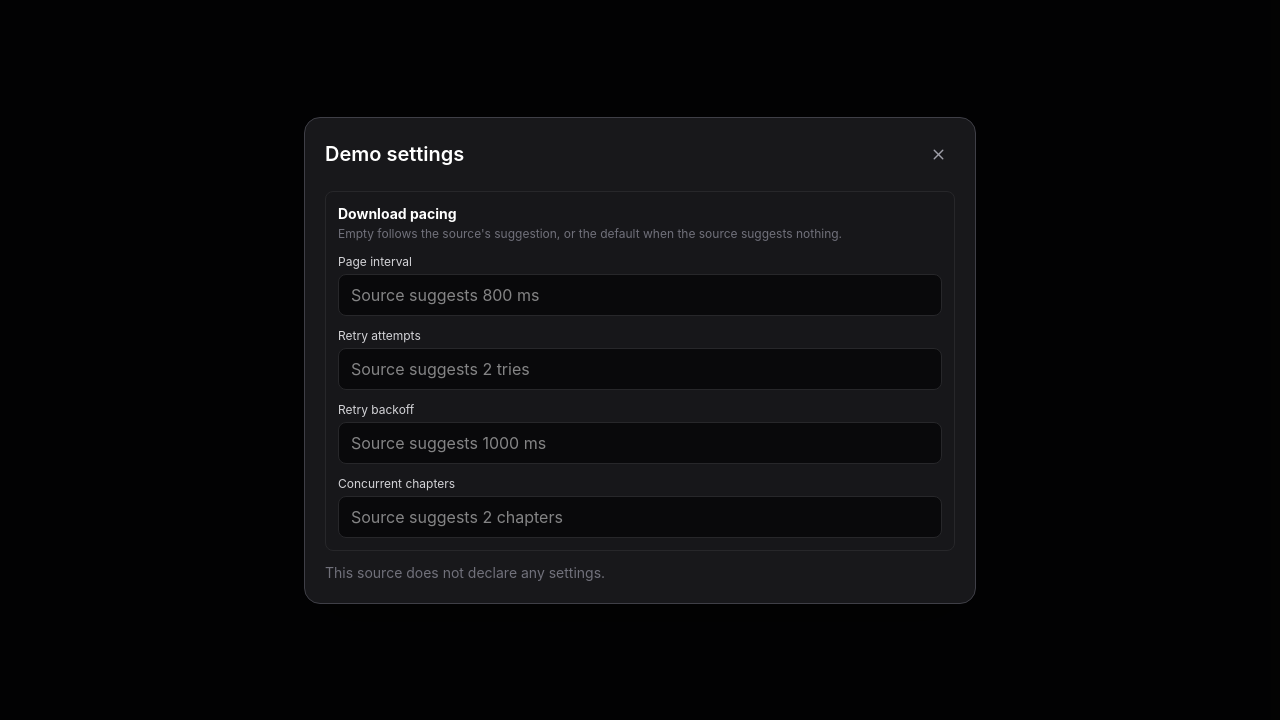
SourceSettingsDialog › saves a pacing override, warns when faster than the source suggests, and can undo it
Type "120" into the number field labelled "Page interval".
click(640, 294); type("120")  # box left=338, top=274, right=942, bottom=316
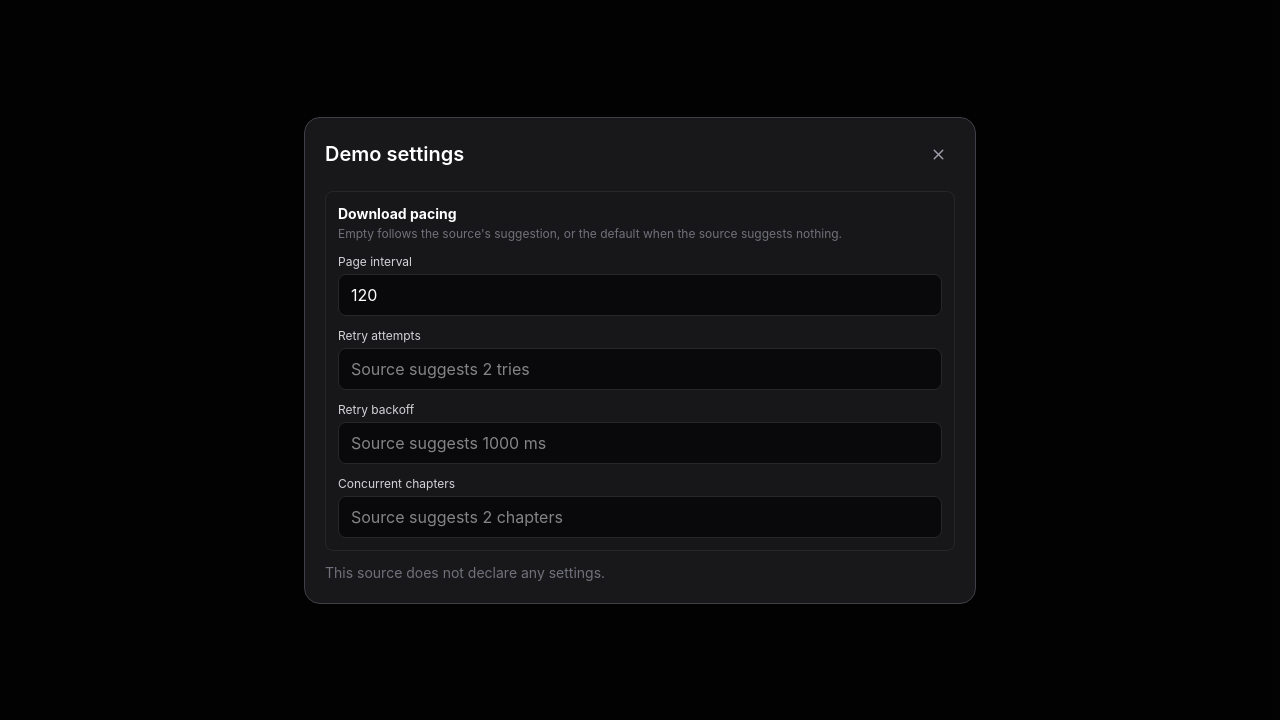
Leave the number field labelled "Page interval", box left=338, top=274, right=942, bottom=316
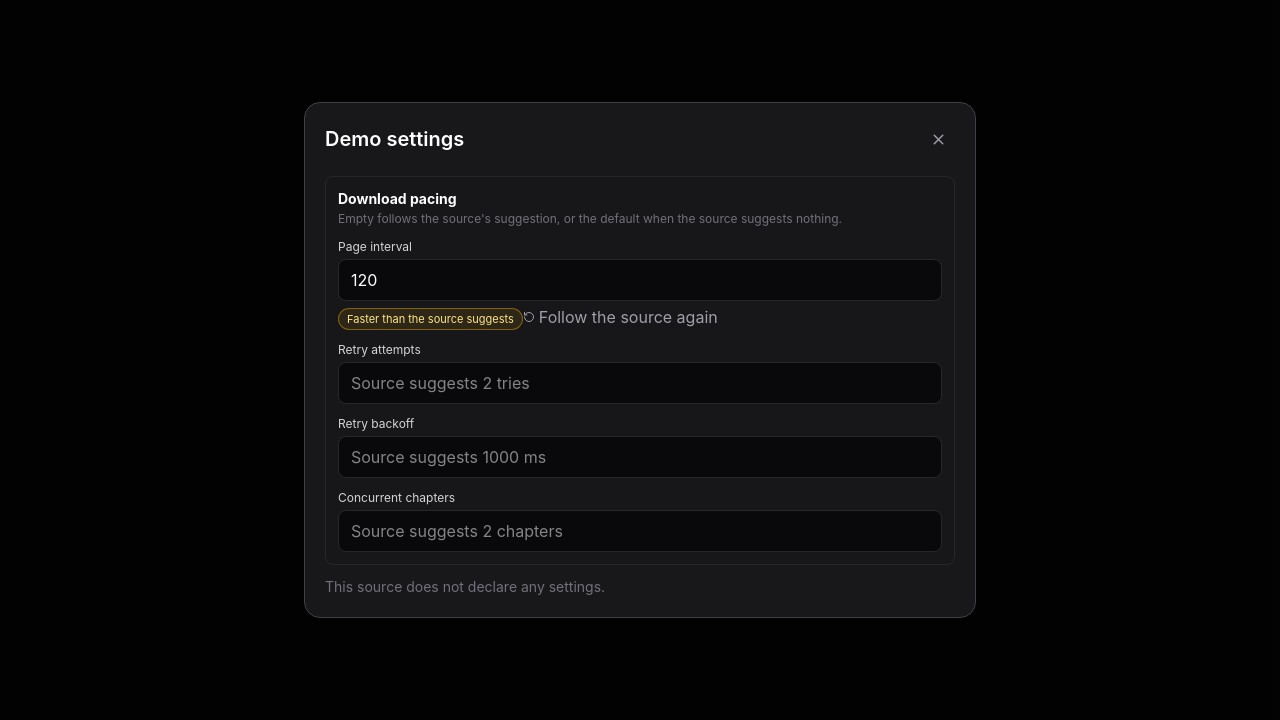
expect the text "Faster than the source suggests" is shown: met, box left=338, top=308, right=523, bottom=330
Following the source again stores null and clears the warning.
Click the button "Follow the source again".
click(620, 317)  # box left=523, top=305, right=718, bottom=329
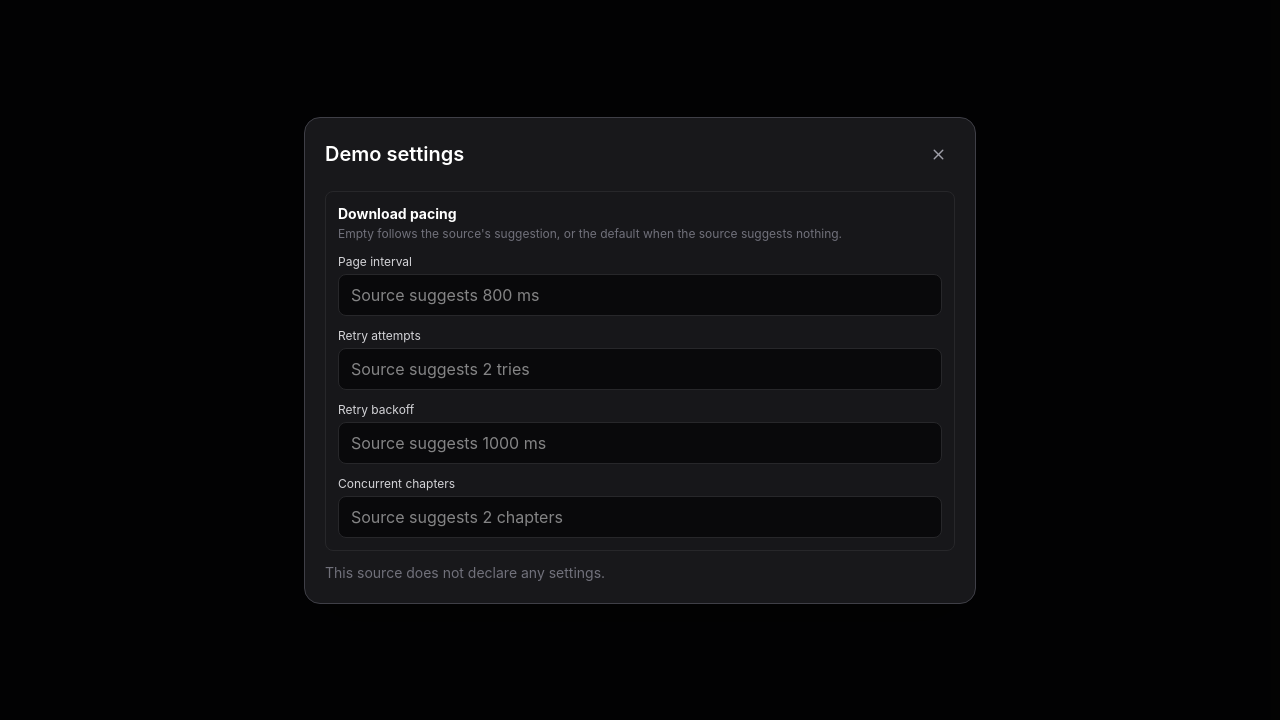
expect the text "Faster than the source suggests" is gone: met
